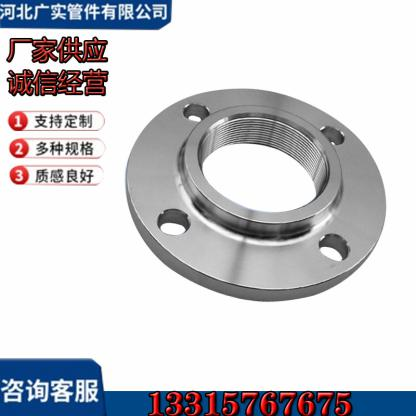FOD: (119, 84, 387, 302)
